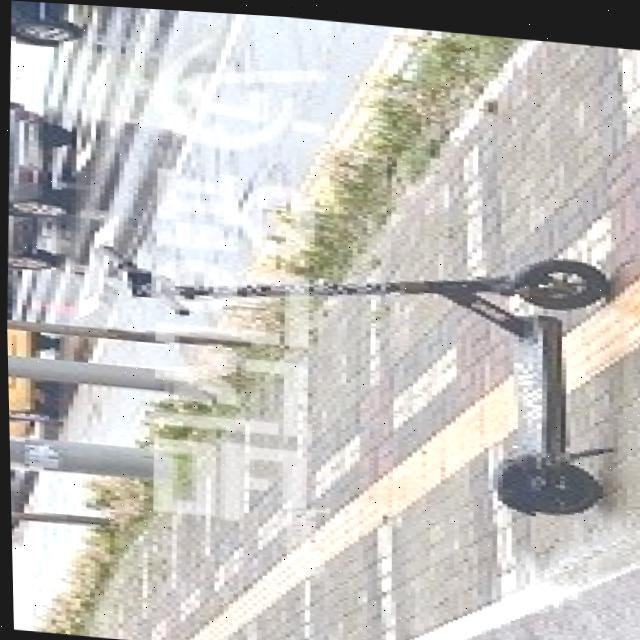kickboard_no: (485, 238, 640, 519)
tactile_paving: (309, 448, 500, 517)
